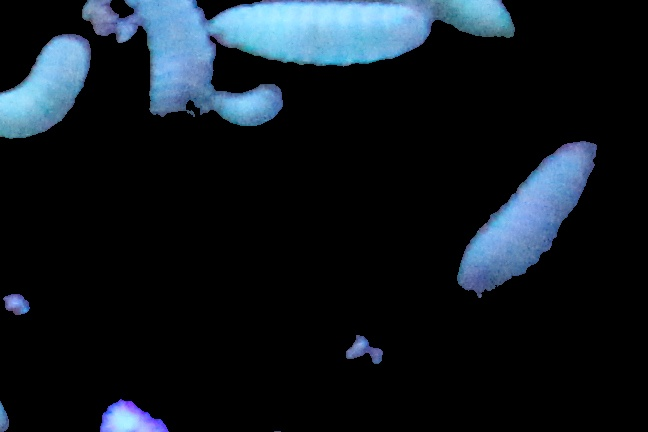larvae: (452, 141, 602, 294), (210, 3, 426, 64), (128, 1, 210, 143), (1, 38, 95, 139)
